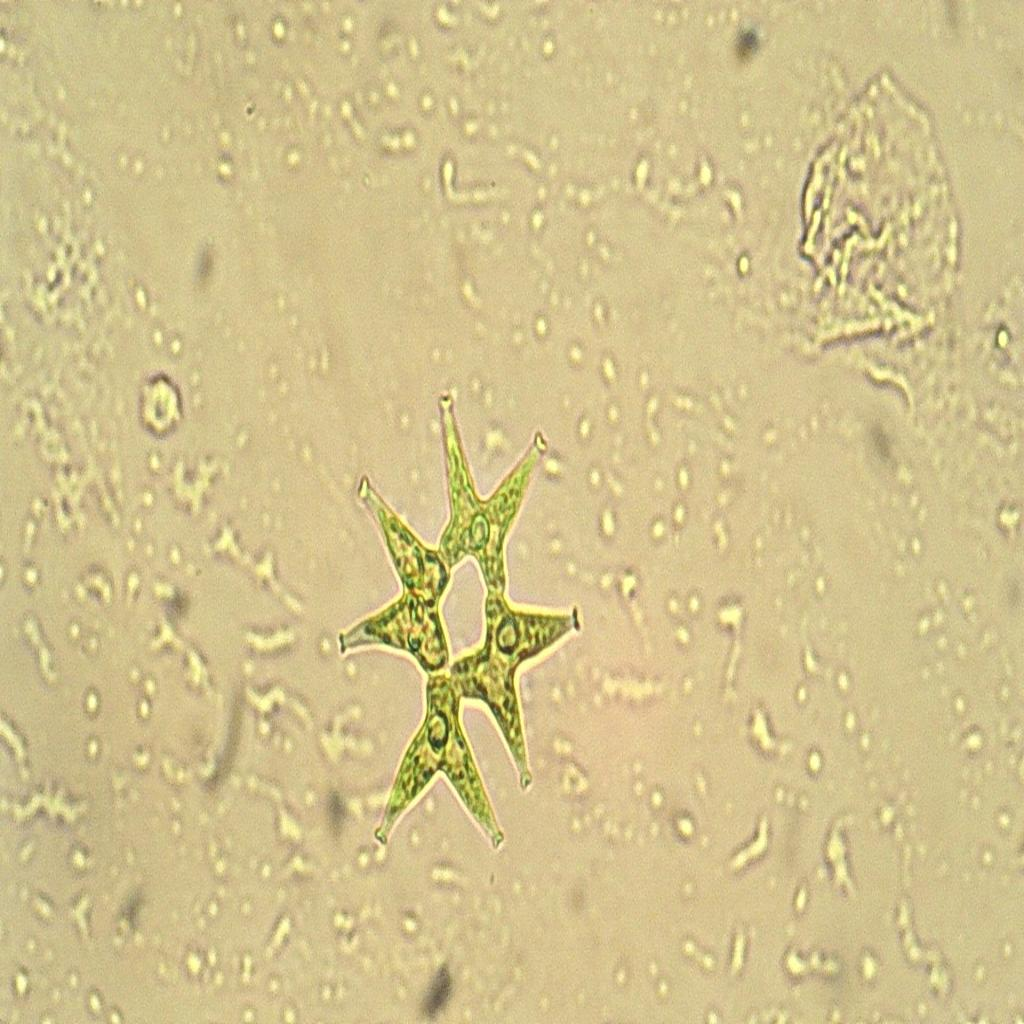Pediastrum_75FI: (331, 370, 586, 884)
